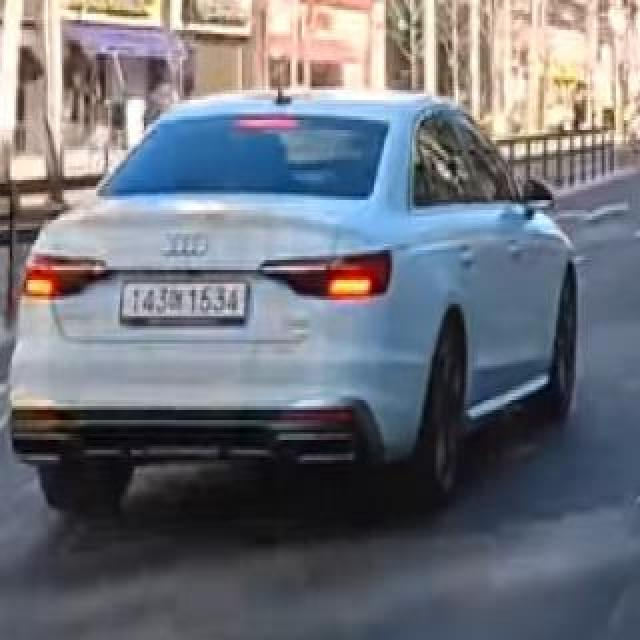car: (5, 73, 589, 531)
illegal_plate: (122, 274, 251, 325)
